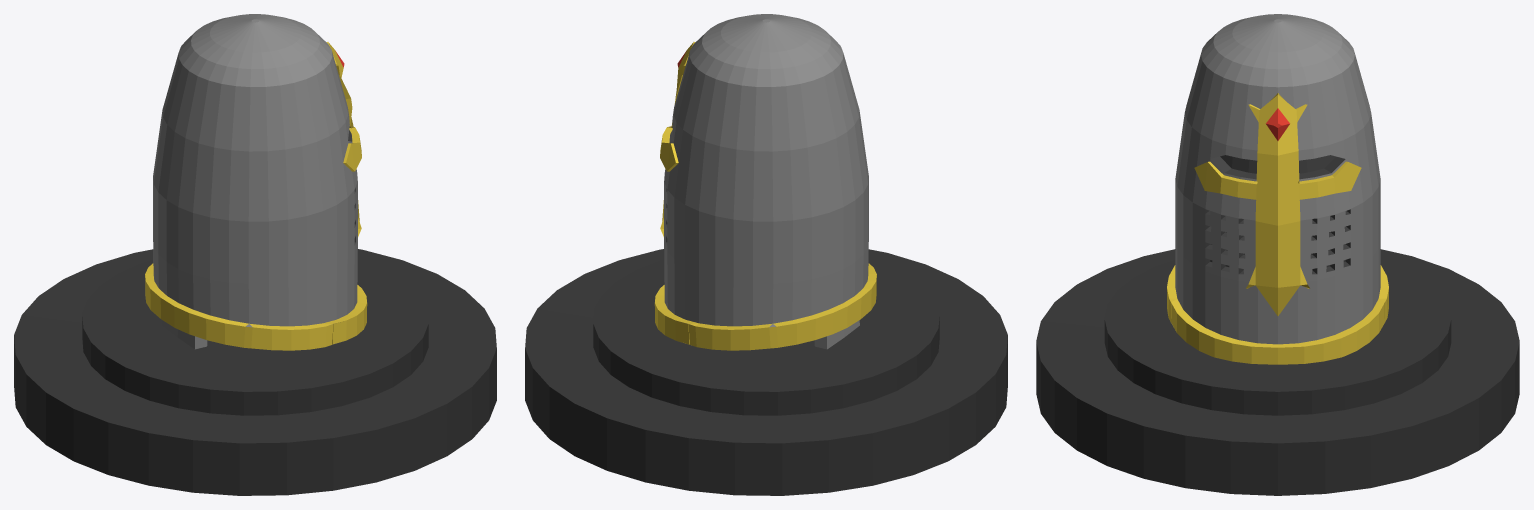
The model's file is helmet1Statue.fbx.
3 renders of one model, left to right at view 1: azimuth 30°, elevation 25°; view 2: azimuth 150°, elevation 25°; view 3: azimuth 270°, elevation 25°, orthographic.
Parts seen in each view (by area): view 1: base, helm; view 2: base, helm; view 3: base, helm.
Part boxes in pixels (x1,y1,x2,y2): base: [14, 249, 496, 495]; helm: [145, 14, 367, 350]; base: [525, 249, 1007, 495]; helm: [654, 14, 876, 350]; base: [1036, 249, 1519, 495]; helm: [1167, 14, 1388, 364].
Bounding box in the file's own units: 200 × 170 × 200.
